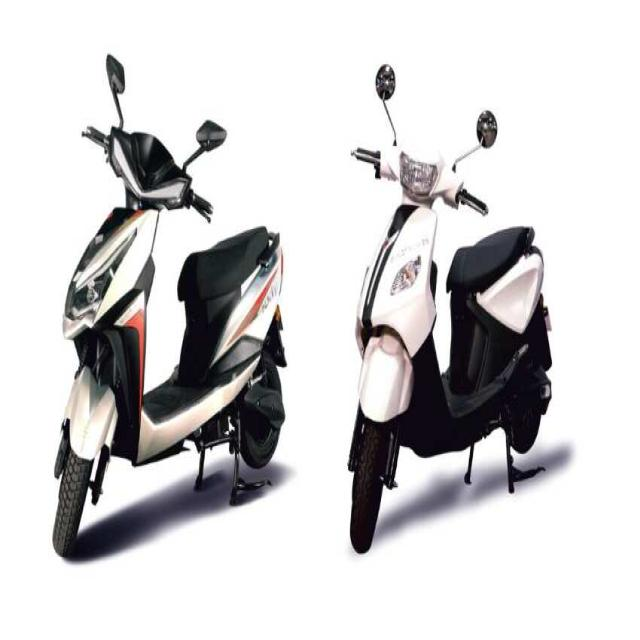motorcycle: (52, 56, 286, 556), (349, 64, 551, 552)
